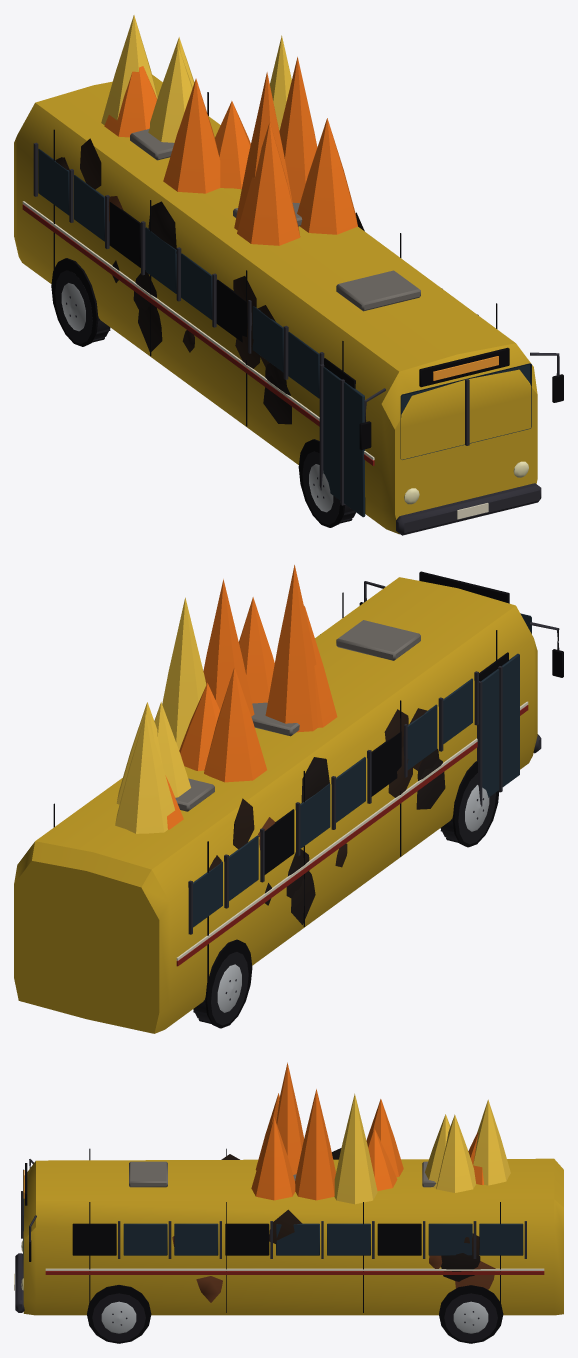
Rendered from bus.glb.
The picture shows the model from 3 angles, top to bottom: view 1: azimuth 30°, elevation 25°; view 2: azimuth 150°, elevation 25°; view 3: azimuth 270°, elevation 25°; orthographic projection. The views are drawn at different scales.
Visible parts, largest first — view 1: bus; view 2: bus; view 3: bus.
Part boxes in pixels (x1,y1,x2,y2): bus: (14, 15, 563, 535); bus: (14, 565, 563, 1033); bus: (14, 1062, 563, 1343).
Bounding box in the file's own units: 3.42 × 5.64 × 11.25.
